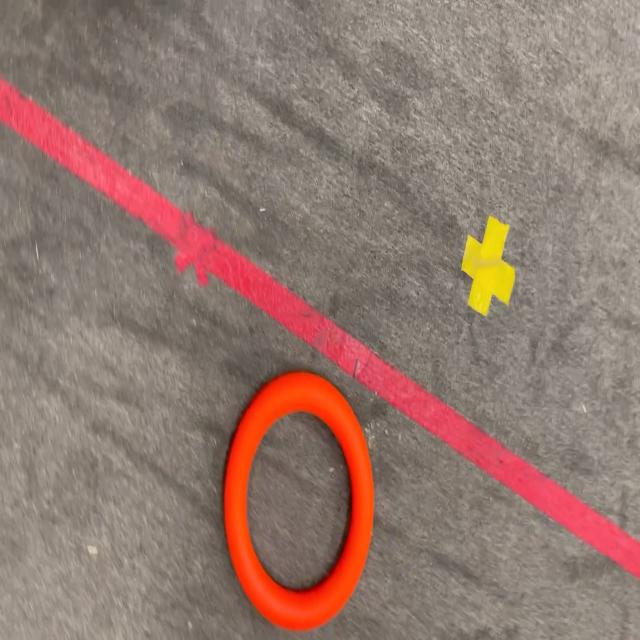note: (223, 368, 375, 633)
